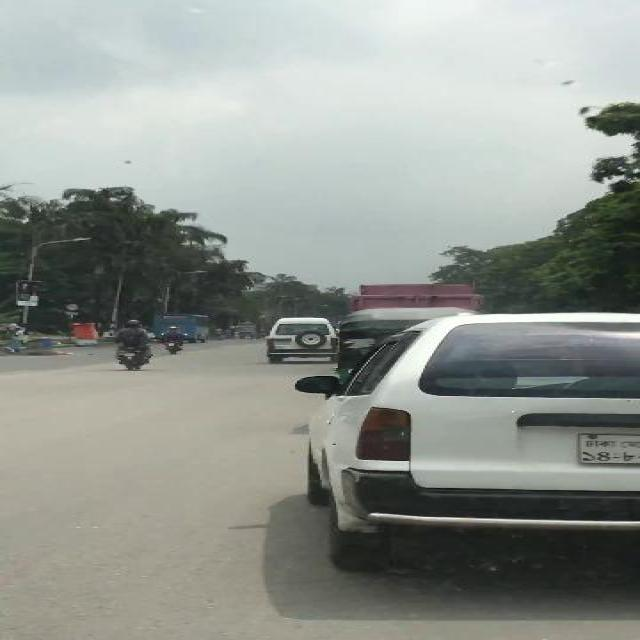bus: (179, 314, 209, 342)
car: (304, 310, 638, 582)
motorbike: (112, 318, 155, 372), (156, 326, 185, 354)
suv: (263, 316, 338, 364)
three wheelers -CNG-: (331, 307, 416, 351)
